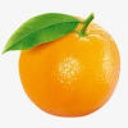orange: (15, 10, 125, 119)
